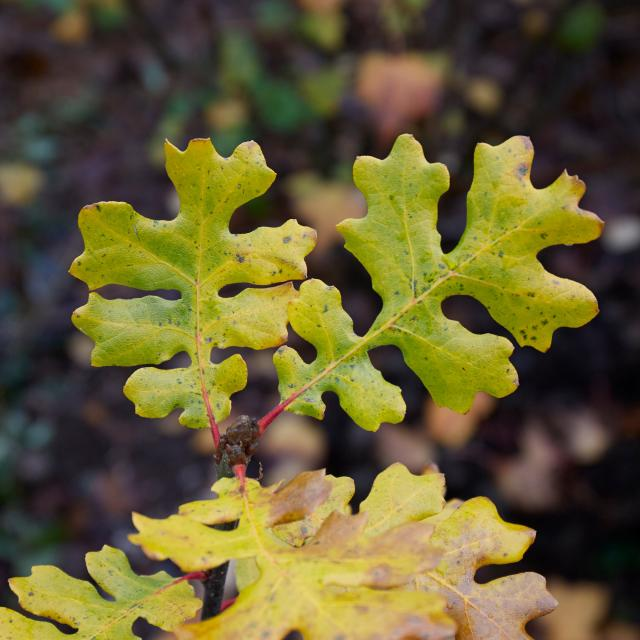Quercus garryana: (60, 130, 608, 473)
